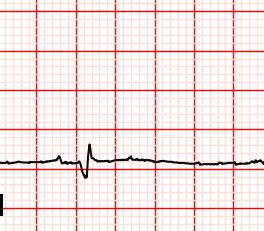Pathological Q Wave: (75, 158, 92, 180)
Poor R Progression: (83, 140, 99, 164)
